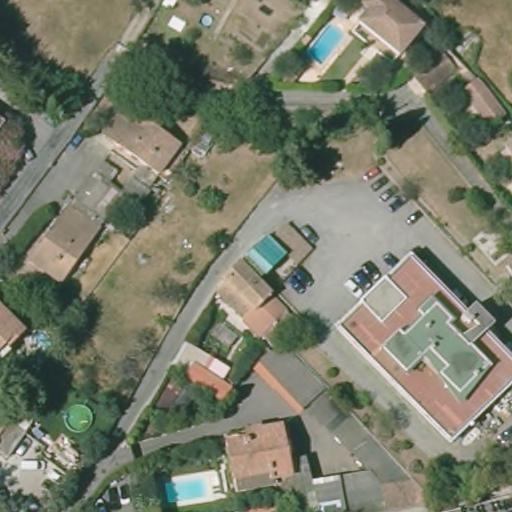pool: (300, 15, 343, 65), (161, 465, 217, 502), (61, 397, 96, 435)
